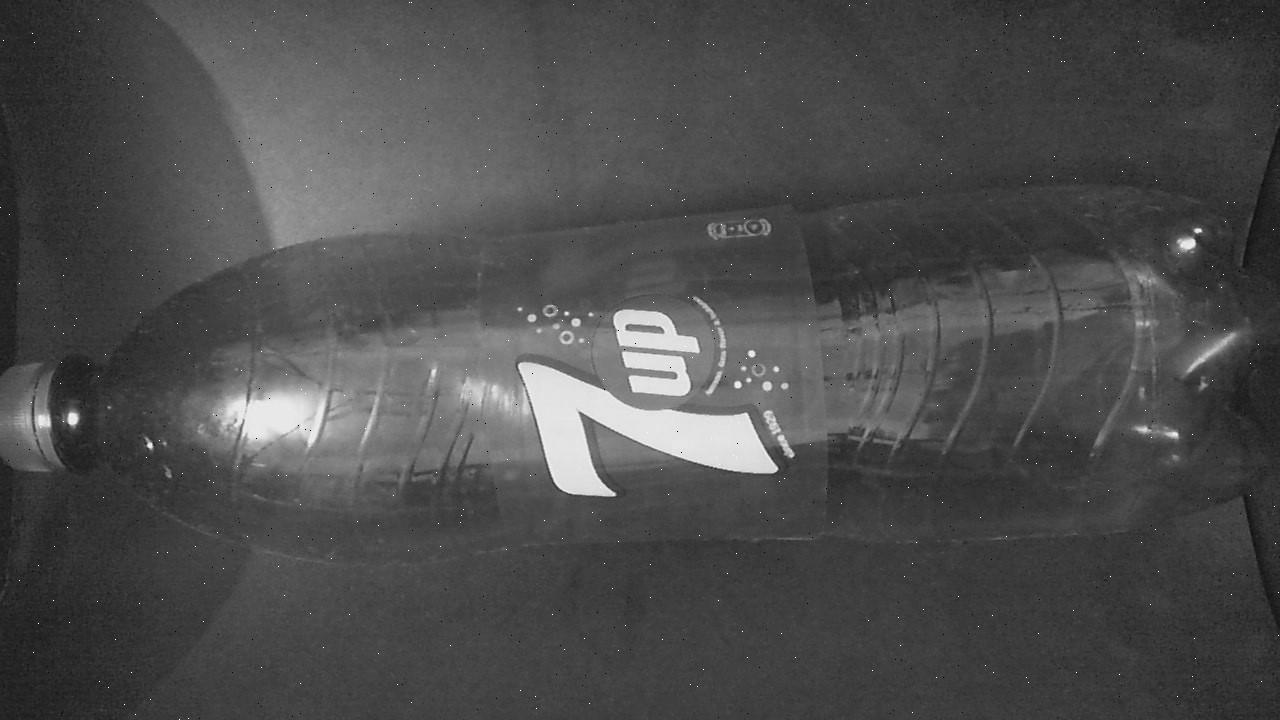bottle: (4, 175, 1280, 573)
